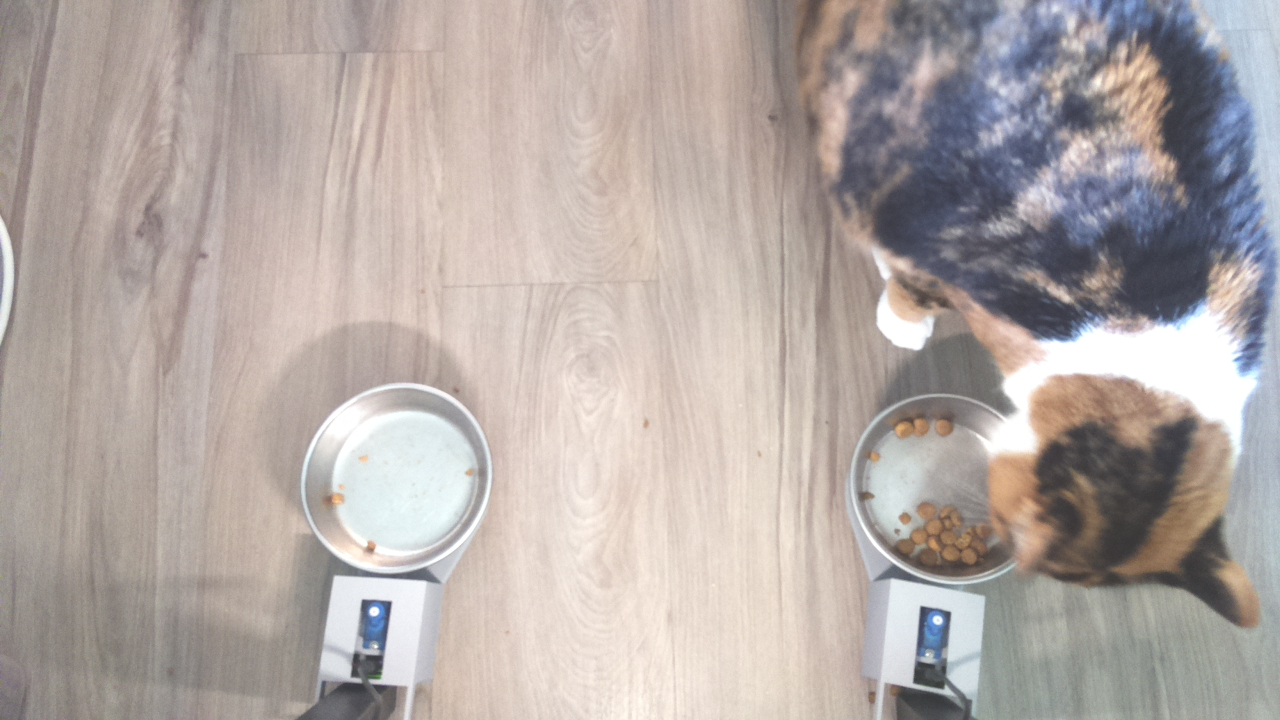bella: (987, 319, 1270, 637)
open_bowl: (299, 382, 492, 575), (855, 391, 992, 591)
